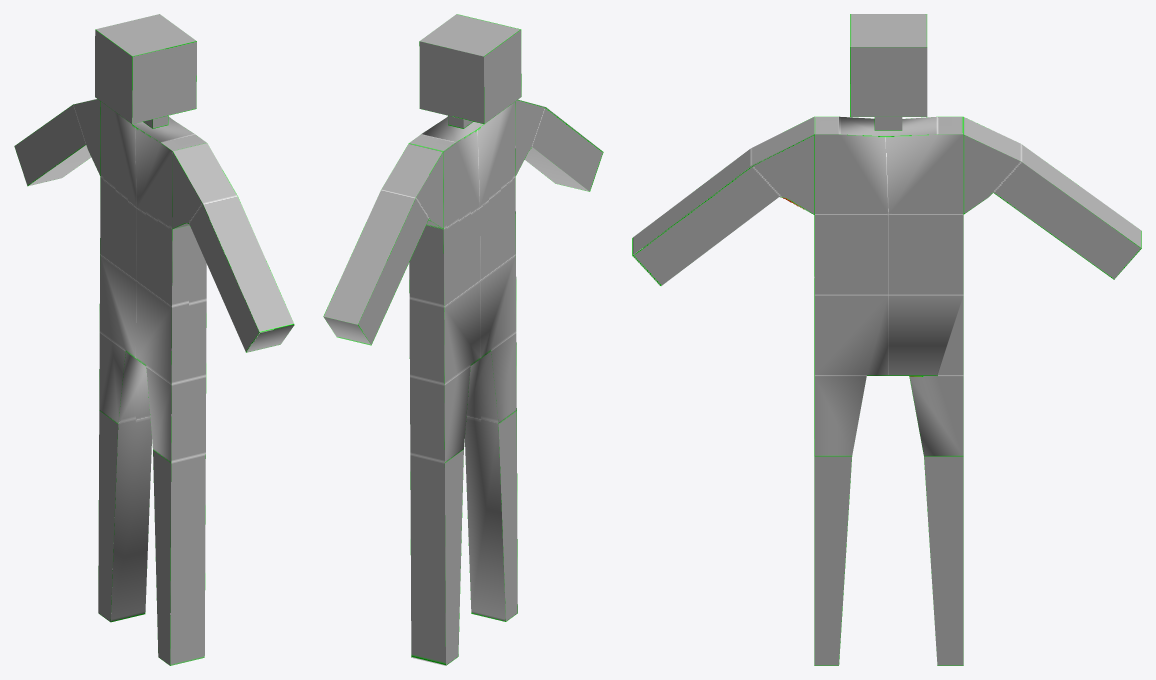
Rendered from boxman.FBX.
3 views of the same model, side by side, from view 1: azimuth 30°, elevation 25°; view 2: azimuth 150°, elevation 25°; view 3: azimuth 270°, elevation 25° (orthographic). The views are drawn at different scales.
Parts seen in each view (by area): view 1: boxman; view 2: boxman; view 3: boxman.
Boxes of the visible parts, left/top/right/bottom form: boxman: left=14, top=14, right=294, bottom=665; boxman: left=323, top=14, right=603, bottom=665; boxman: left=632, top=14, right=1141, bottom=665.
Bounding box in the file's own units: 3.94 × 34.93 × 25.86.
